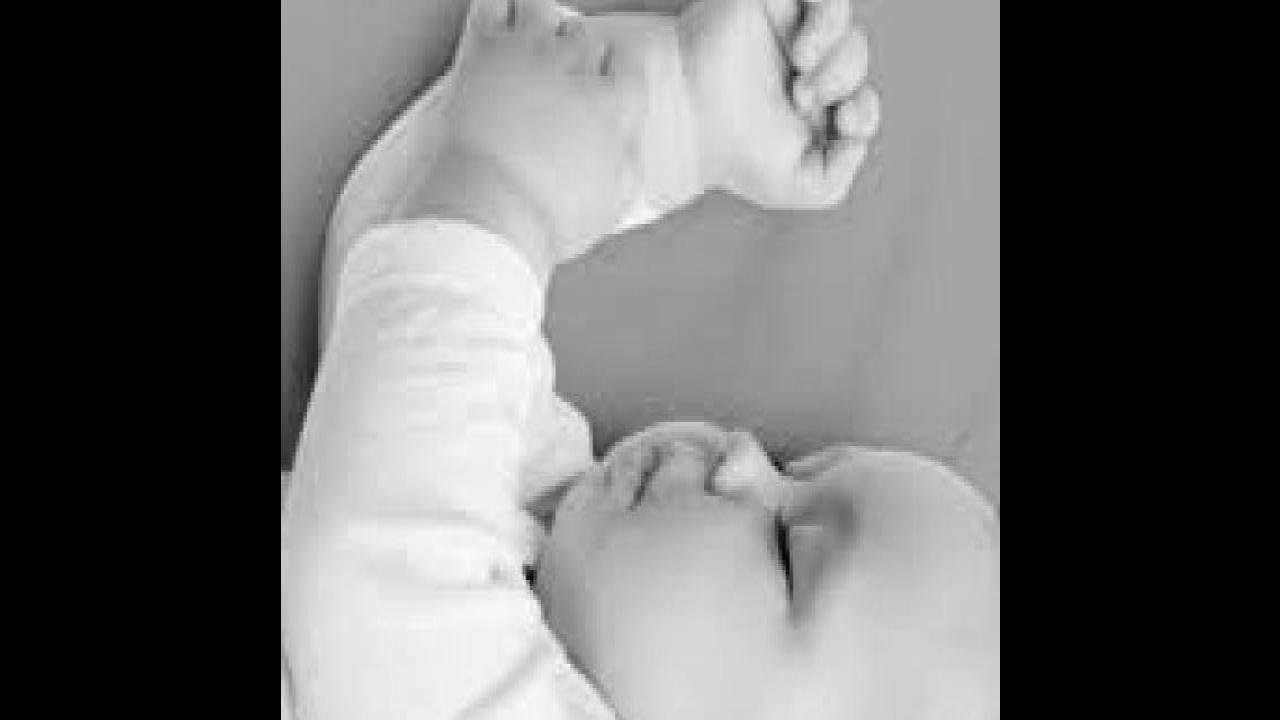hand: (450, 0, 646, 263), (684, 0, 879, 206)
